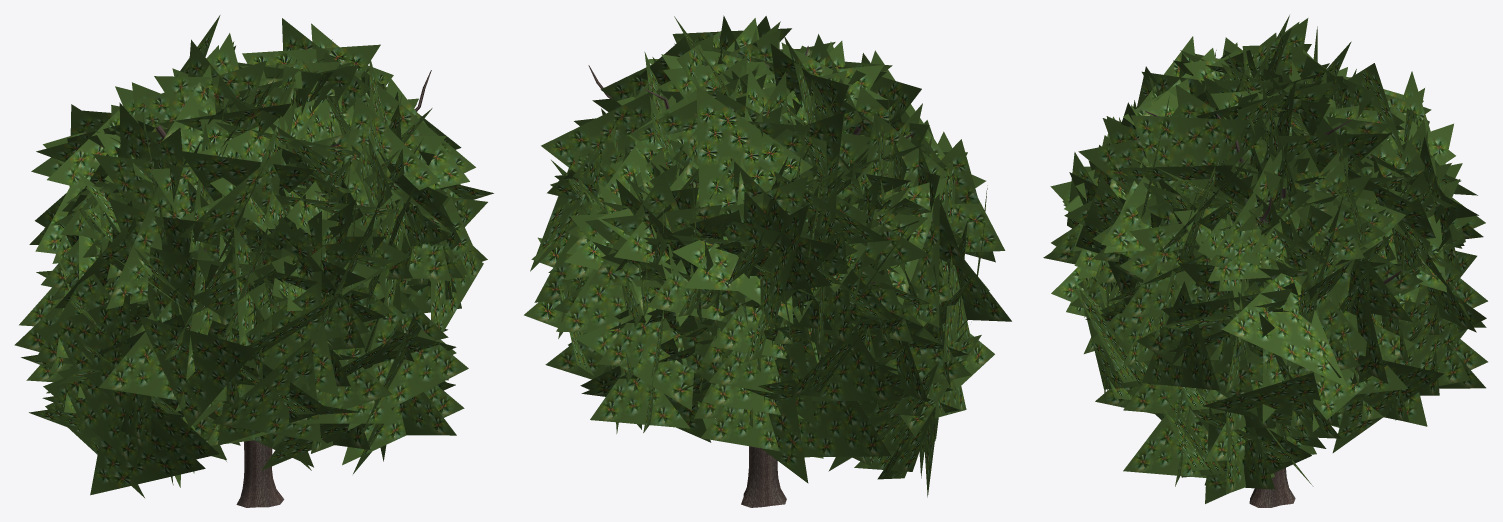
Rendered from Magnolia_Grandiflora_Autumn_Adult.glb.
3 renders of one model, left to right at view 1: azimuth 30°, elevation 25°; view 2: azimuth 150°, elevation 25°; view 3: azimuth 270°, elevation 25°, orthographic.
Parts seen in each view (by area): view 1: Magnolia_Grandiflora_Autumn_Adult__LOD3; view 2: Magnolia_Grandiflora_Autumn_Adult__LOD3; view 3: Magnolia_Grandiflora_Autumn_Adult__LOD3.
Part boxes in pixels (x1,y1,x2,y2): Magnolia_Grandiflora_Autumn_Adult__LOD3: (14,15,493,507); Magnolia_Grandiflora_Autumn_Adult__LOD3: (524,15,1011,507); Magnolia_Grandiflora_Autumn_Adult__LOD3: (1043,15,1487,507).
Bounding box in the file's own units: 18.36 × 18.96 × 16.62.
3 materials, 3 textured.
